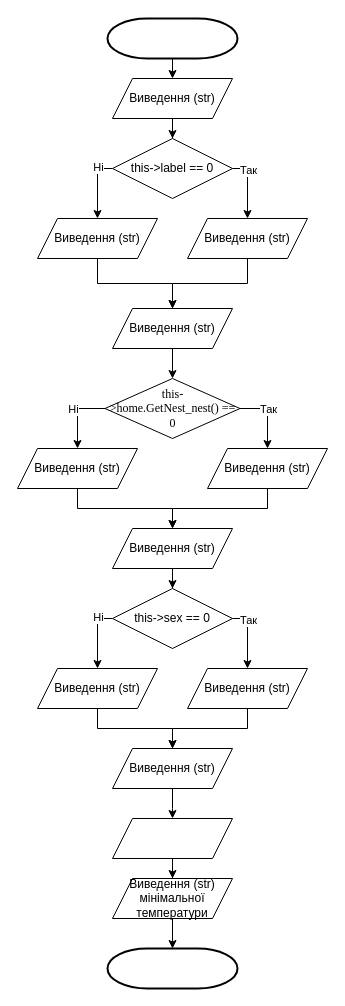
Image size: 345x1006. Some labels were removed from this diagram. Here are the shapes that lost their labels. From the top down, the centre of each, then its label:
the point at 172,38: printOne
the point at 172,838: Виведення (str) максимальної температури
the point at 172,968: Кінець
